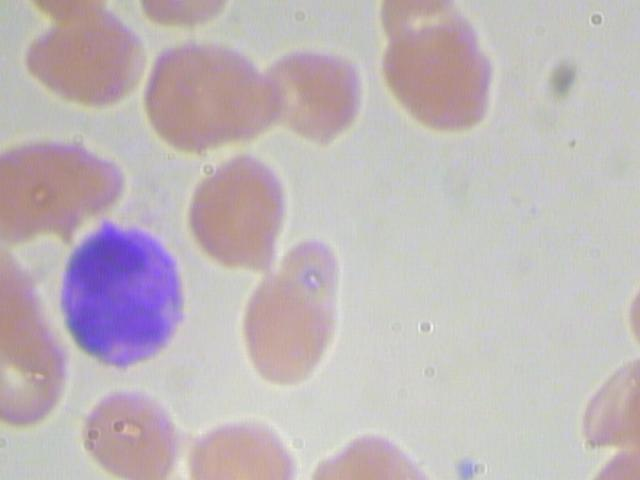RBC: (137, 34, 280, 158), (177, 154, 302, 272), (221, 271, 346, 389), (20, 8, 154, 113), (255, 40, 373, 152), (379, 22, 496, 133), (78, 382, 188, 480)
